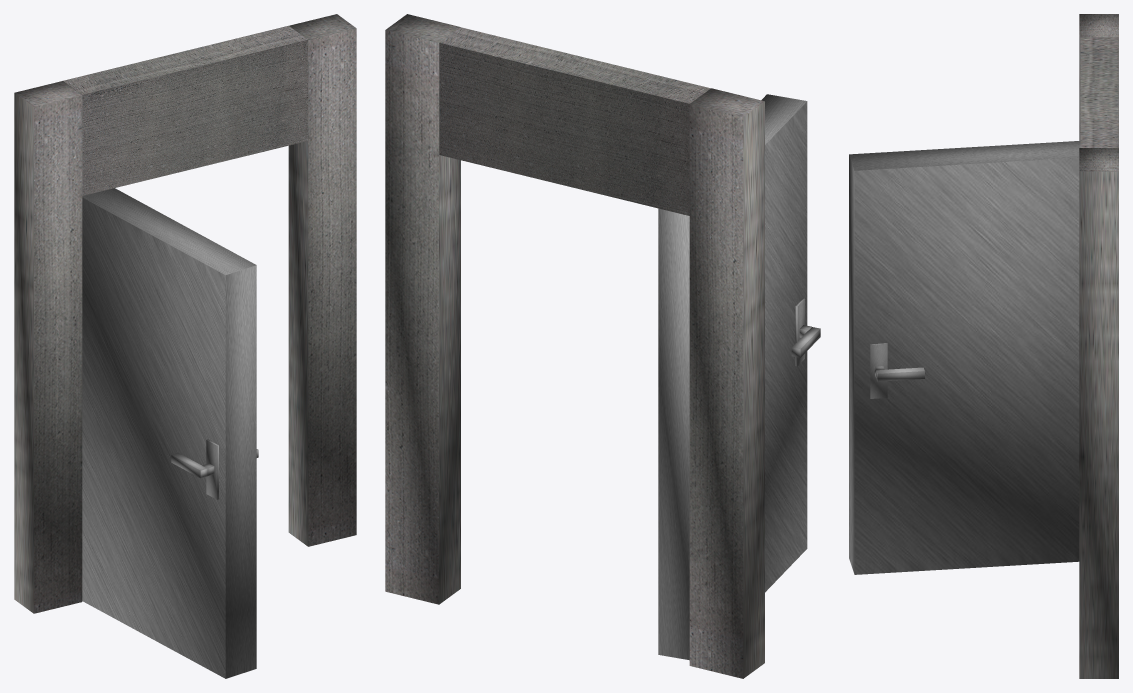
File: metaldoor_000006.obj
3 views of the same model, side by side, from view 1: azimuth 30°, elevation 25°; view 2: azimuth 150°, elevation 25°; view 3: azimuth 270°, elevation 25° (orthographic). The views are drawn at different scales.
Parts seen in each view (by area): view 1: Cube.006_Cube.007, Cube.004_Cube.005; view 2: Cube.006_Cube.007, Cube.004_Cube.005; view 3: Cube.004_Cube.005, Cube.006_Cube.007.
Boxes of the visible parts, box(x1,y1,x2,y2) form: Cube.006_Cube.007: box(14, 14, 356, 613); Cube.004_Cube.005: box(82, 188, 258, 678); Cube.006_Cube.007: box(385, 14, 764, 678); Cube.004_Cube.005: box(658, 94, 820, 660); Cube.004_Cube.005: box(849, 141, 1080, 574); Cube.006_Cube.007: box(1079, 14, 1118, 678).
Size of the model in its own units: 2 by 3 by 1.45.
